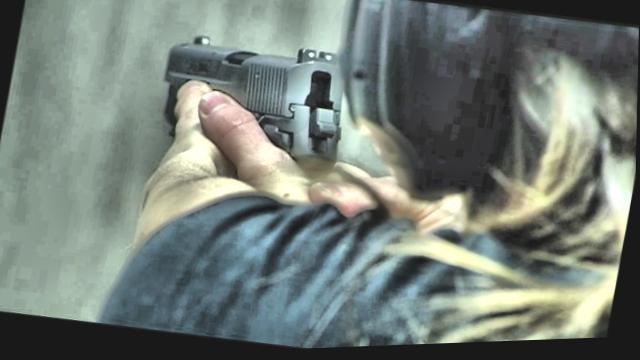pistol: (142, 25, 366, 182)
